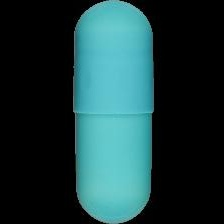21695-044: (0, 0, 224, 224)
